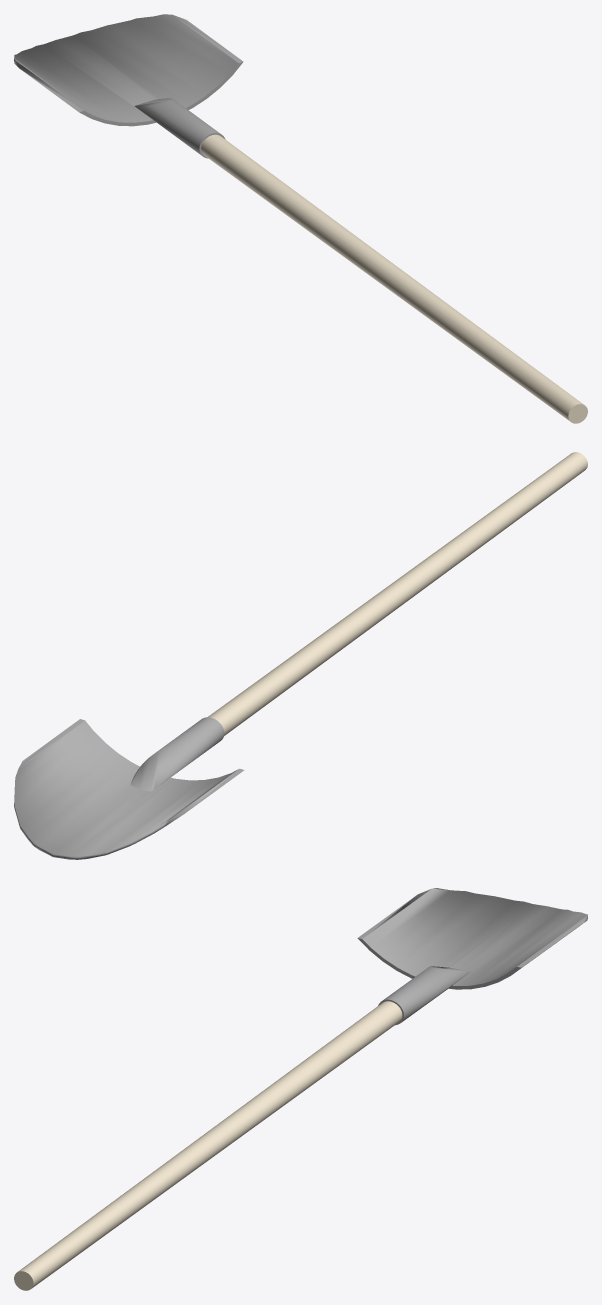
Rendered from Shovel.fbx.
3 views of the same model, one above another, from view 1: azimuth 30°, elevation 25°; view 2: azimuth 150°, elevation 25°; view 3: azimuth 330°, elevation 25° (orthographic).
Parts seen in each view (by area): view 1: Shovel; view 2: Shovel; view 3: Shovel.
Part boxes in pixels (bbox=[...]): Shovel: bbox=[14, 14, 587, 423]; Shovel: bbox=[14, 452, 587, 859]; Shovel: bbox=[14, 888, 587, 1290].
Bounding box in the file's own units: 22.5 × 5.29 × 124.
